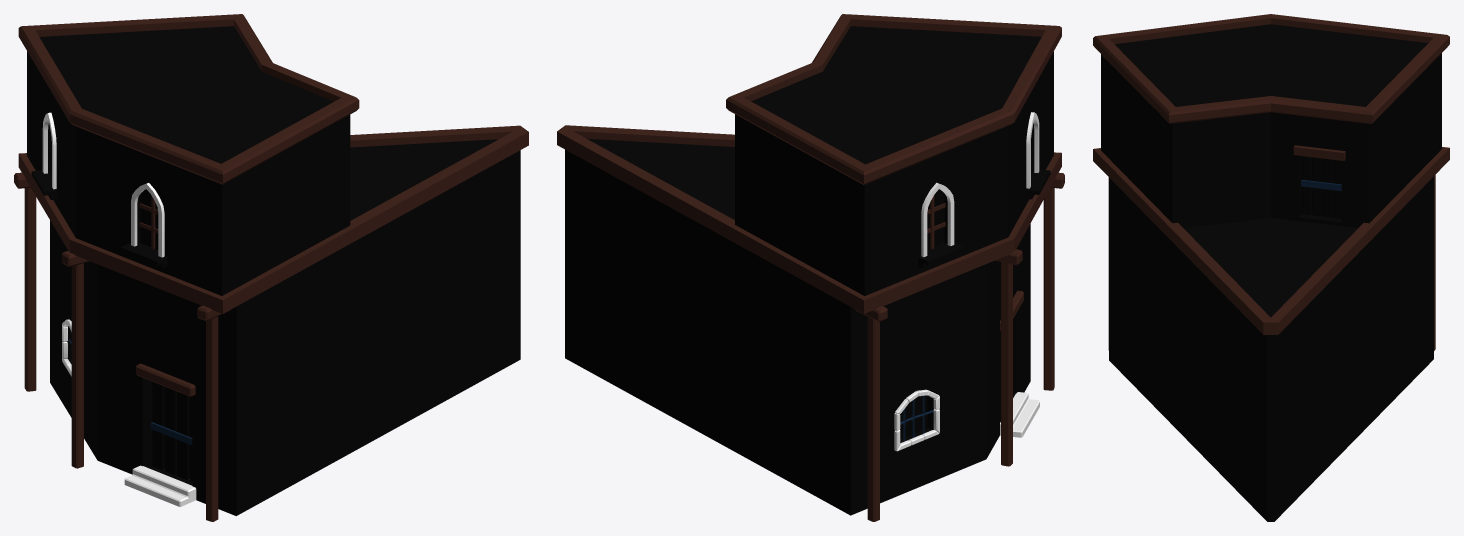
Rendered from civilian_house_30_b.FBX.
3 views of the same model, side by side, from view 1: azimuth 30°, elevation 25°; view 2: azimuth 150°, elevation 25°; view 3: azimuth 270°, elevation 25° (orthographic). The views are drawn at different scales.
Visible parts, largest first — view 1: civilian_house_30_b; view 2: civilian_house_30_b; view 3: civilian_house_30_b.
Part boxes in pixels (left/top/right/bottom): civilian_house_30_b: left=14, top=14, right=528, bottom=521; civilian_house_30_b: left=557, top=14, right=1064, bottom=521; civilian_house_30_b: left=1093, top=14, right=1449, bottom=521.
Bounding box in the file's own units: 1268 × 935 × 960.
